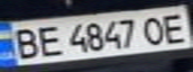4: (63, 20, 90, 54), (103, 17, 124, 51)
7: (118, 16, 142, 48)
8: (84, 19, 106, 53)
B: (6, 25, 42, 61)
E: (157, 10, 193, 45), (30, 23, 66, 57)
O: (139, 12, 172, 46)
